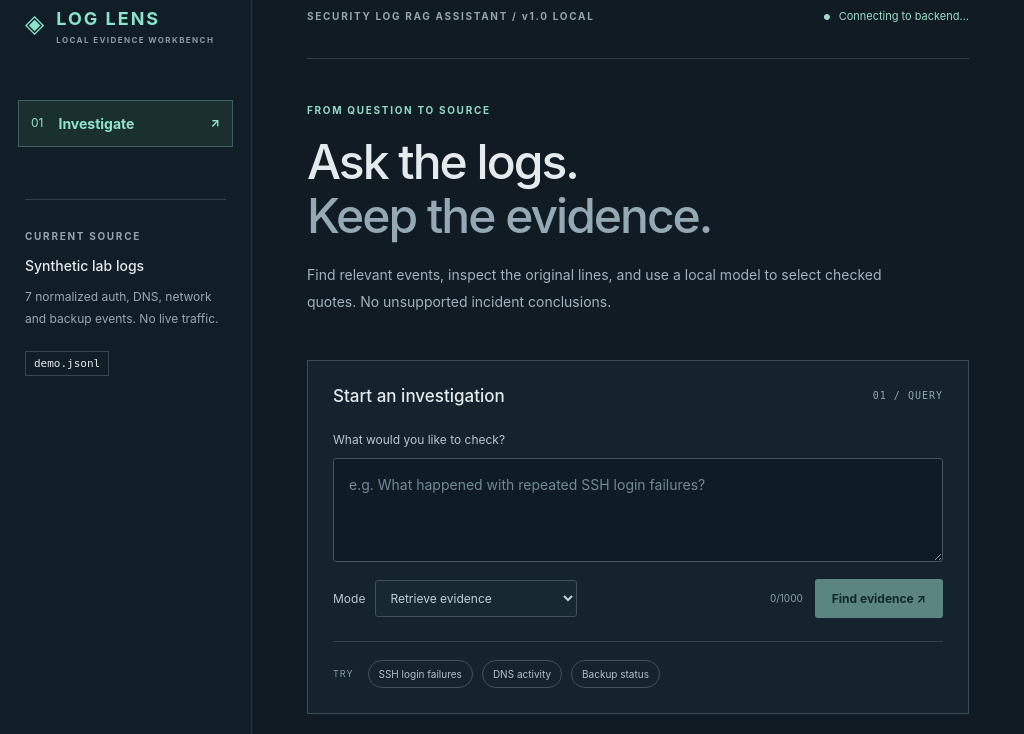
Test case: evidence workbench › explains abstention without claiming absence
Type "SSH failures" into the text box labelled "What would you like to check?" at (638, 510), box [333,458,943,562]
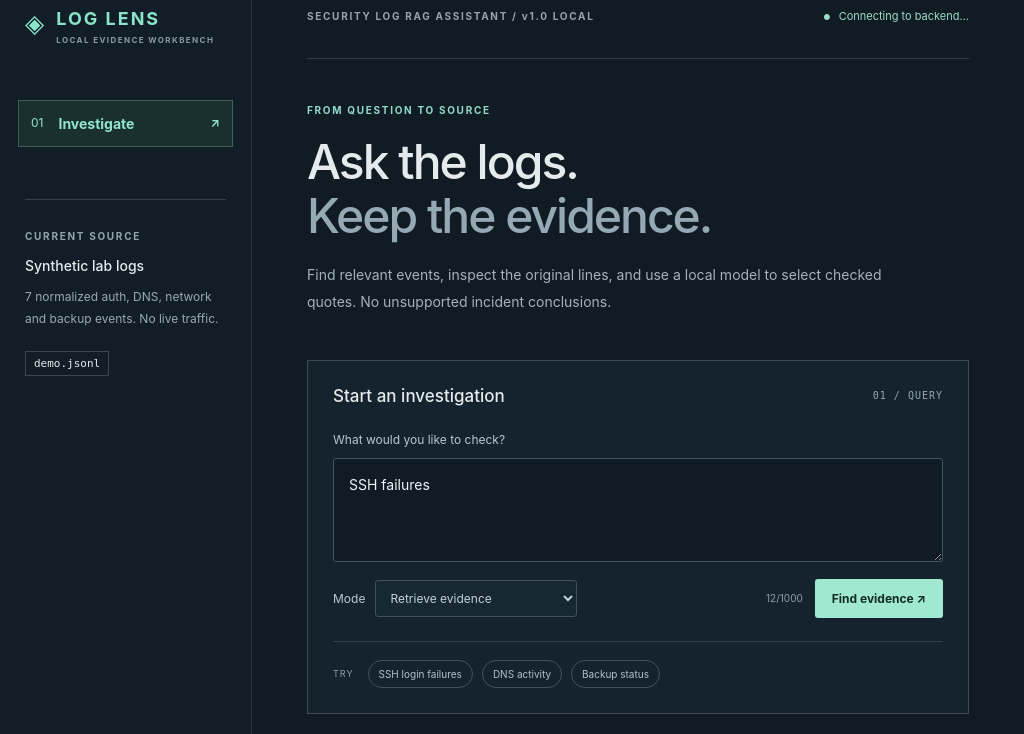
Click the button "Find evidence ↗" at (879, 598), box [815,579,943,618]
(page scrolled)
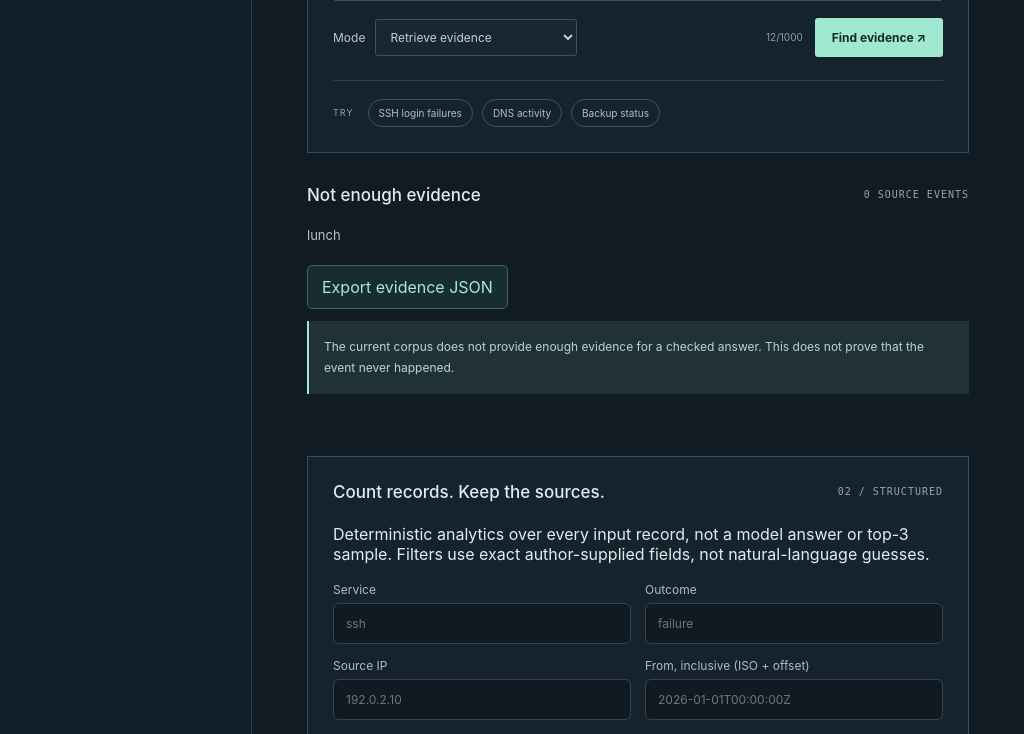
expect the heading "Not enough evidence" is shown: met, box [307,185,481,205]
expect the text "does not prove that the event never happened" is shown: met, box [324,339,924,375]
